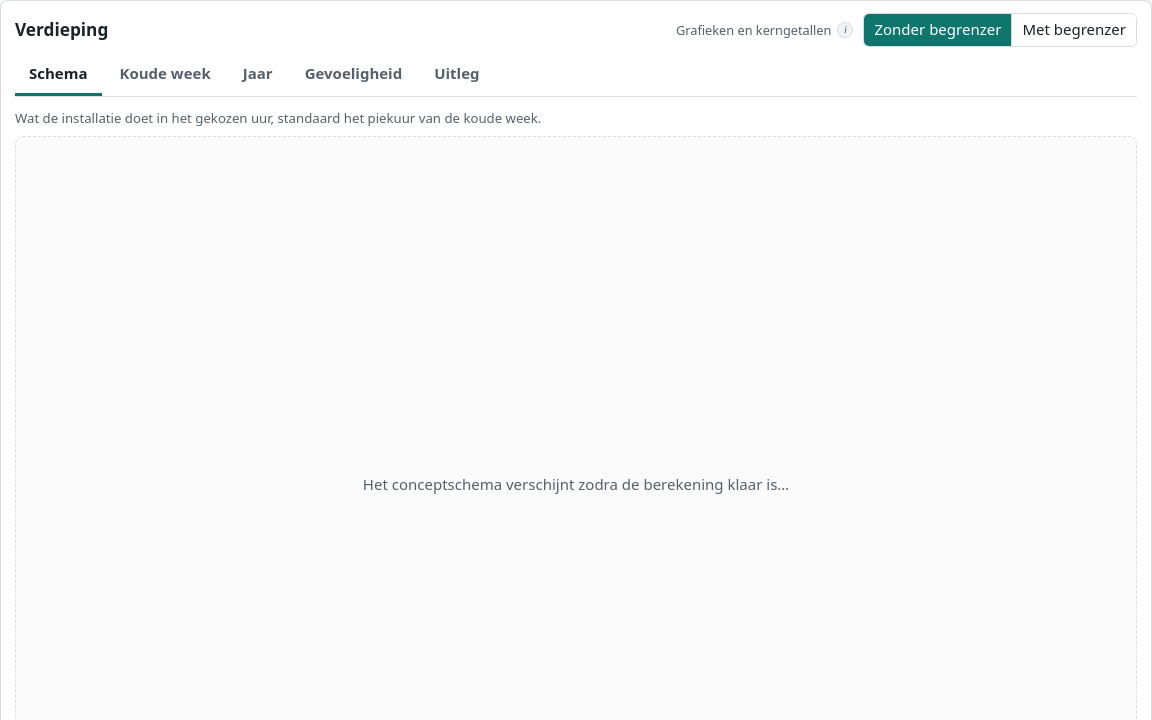
Verdieping: grafieken en kerngetallen (bedrijfsmodus) › de (i) toont HELP.mode
The width and height of the screenshot is (1152, 720).
Click the button named "Toelichting: Grafieken en kerngetallen": (845,30) [837,22,853,38]
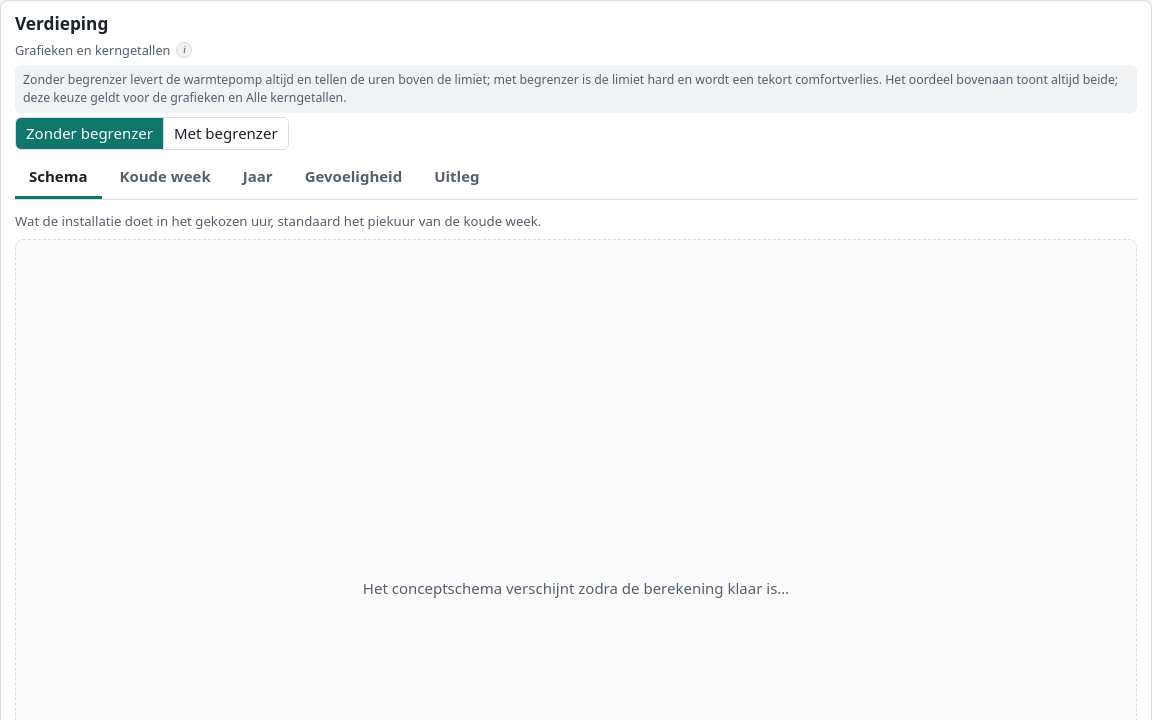
Expected: the text "Zonder begrenzer levert de warmtepomp altijd en tellen de uren boven de limiet; met begrenzer is de limiet hard en wordt een tekort comfortverlies. Het oordeel" is shown, [23,71,1118,106]
